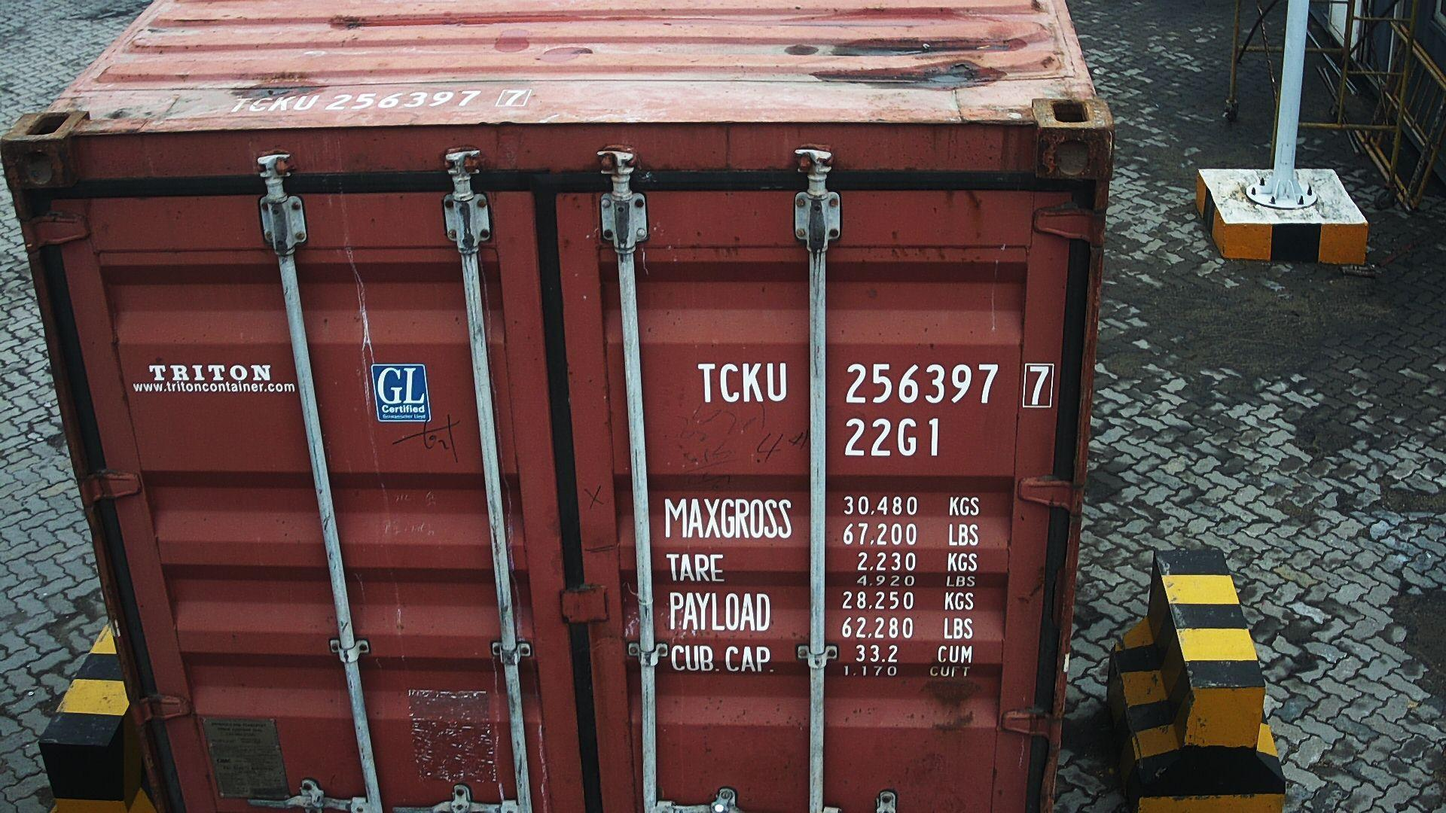container-numbers: (693, 358, 1059, 411), (221, 86, 542, 116), (840, 413, 945, 461)
